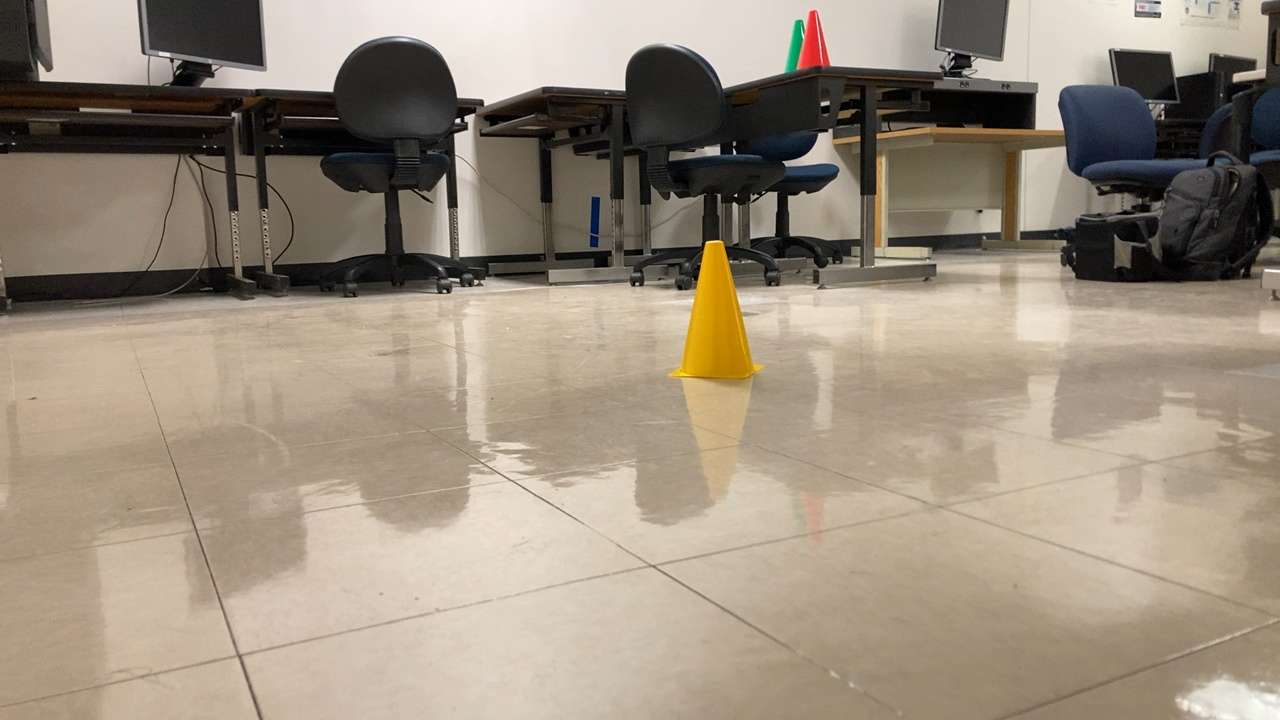yellow_cone: (655, 233, 771, 388)
